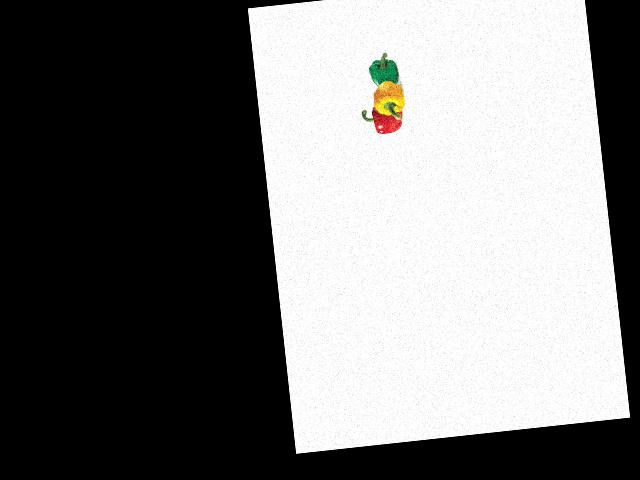bell_pepper: (365, 52, 402, 91)
